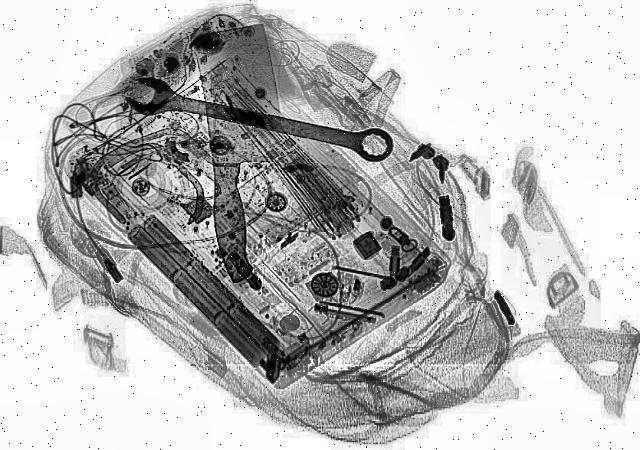Knife: (179, 25, 309, 285)
Wrench: (115, 76, 402, 170)
